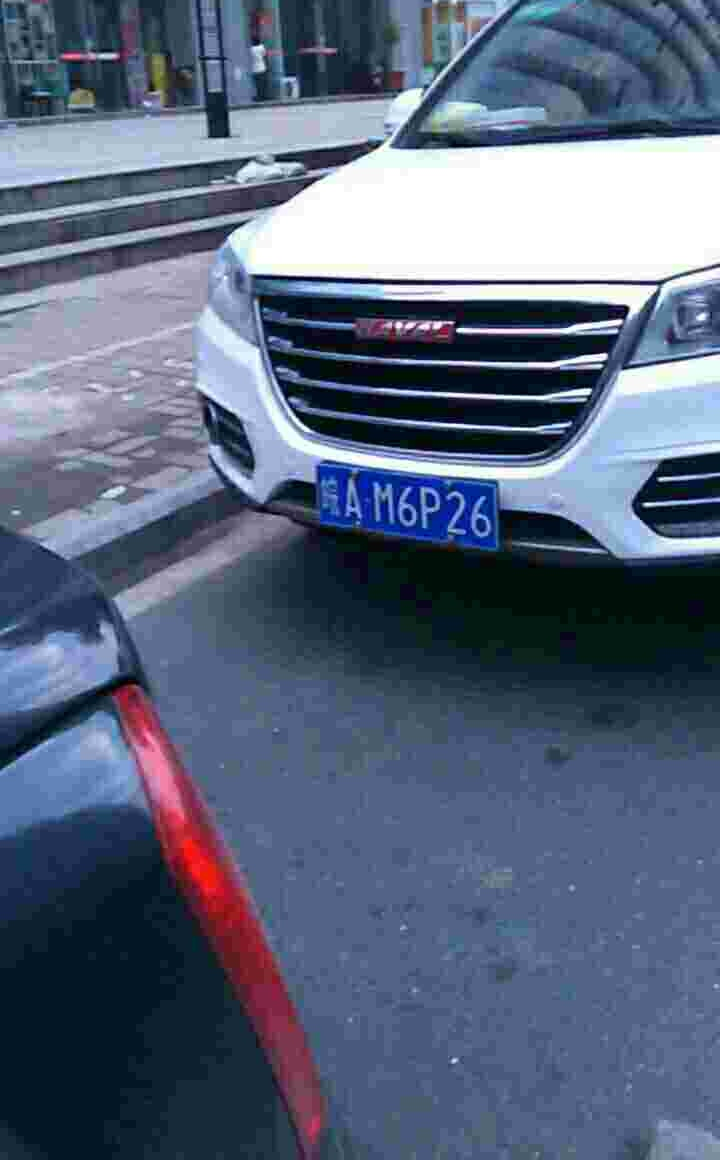license_plate: (309, 463, 507, 554)
